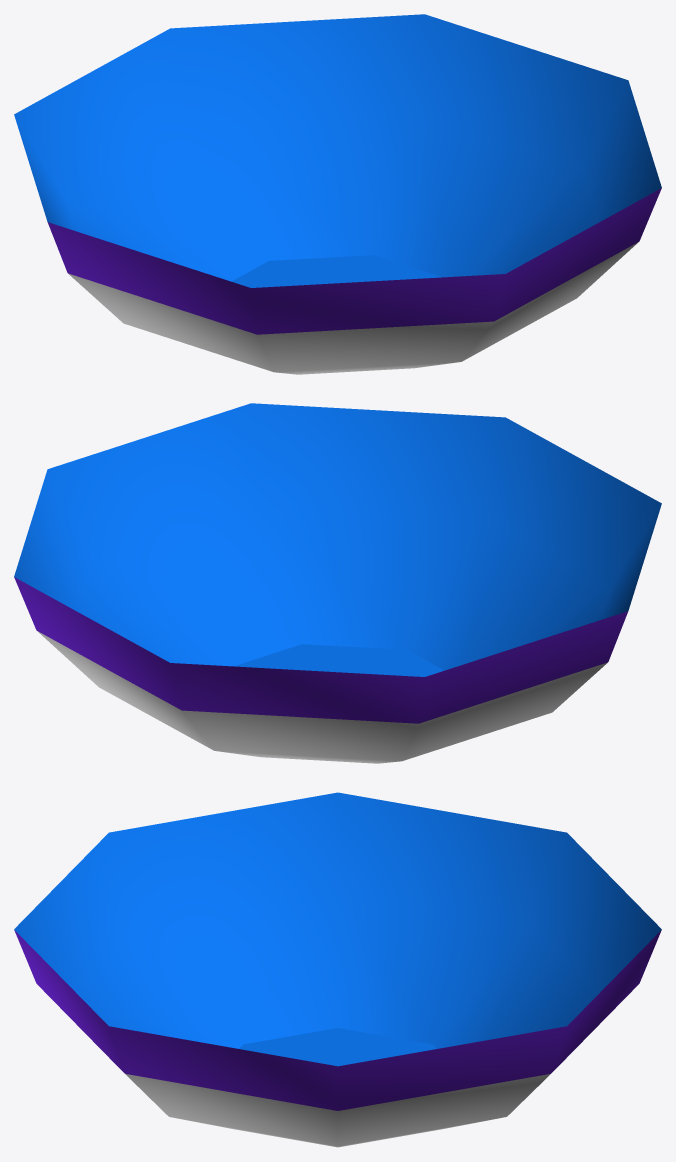
Rendered from Bowl_D2.FBX.
3 views of the same model, one above another, from view 1: azimuth 30°, elevation 25°; view 2: azimuth 150°, elevation 25°; view 3: azimuth 270°, elevation 25° (orthographic). The views are drawn at different scales.
Parts seen in each view (by area): view 1: Bowl; view 2: Bowl; view 3: Bowl.
Part boxes in pixels (box(x1,y1,x2,y2)): Bowl: box(14, 14, 661, 374); Bowl: box(14, 403, 661, 763); Bowl: box(14, 792, 661, 1147).
Bounding box in the file's own units: 70.43 × 18.64 × 70.43.
